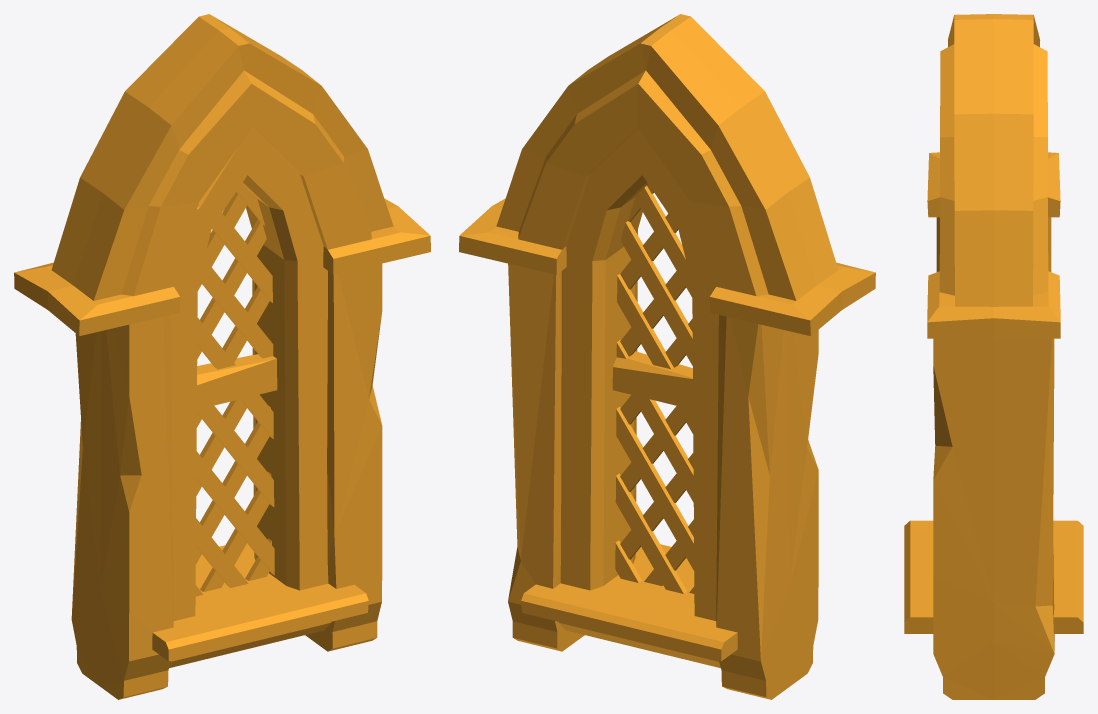
Rendered from SM_Window_Wood_Small_A_Fantasy.fbx.
3 views of the same model, side by side, from view 1: azimuth 30°, elevation 25°; view 2: azimuth 150°, elevation 25°; view 3: azimuth 270°, elevation 25° (orthographic).
Parts seen in each view (by area): view 1: SM_Window_Wood_Small_A_Fantasy; view 2: SM_Window_Wood_Small_A_Fantasy; view 3: SM_Window_Wood_Small_A_Fantasy.
Boxes of the visible parts, x1,y1,x2,y2 form: SM_Window_Wood_Small_A_Fantasy: [14, 14, 430, 699]; SM_Window_Wood_Small_A_Fantasy: [459, 14, 875, 699]; SM_Window_Wood_Small_A_Fantasy: [904, 14, 1083, 699].
Bounding box in the file's own units: 1.32 × 2.26 × 0.5888.
